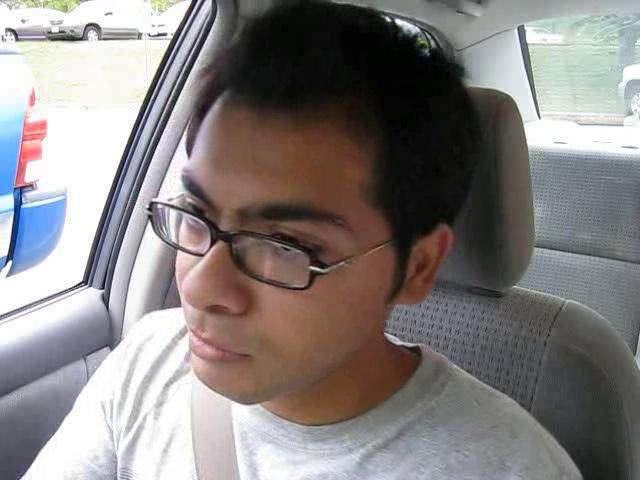no_yawn: (164, 312, 273, 378)
open_eyeL: (151, 198, 222, 256)
open_eyeR: (236, 215, 345, 290)
